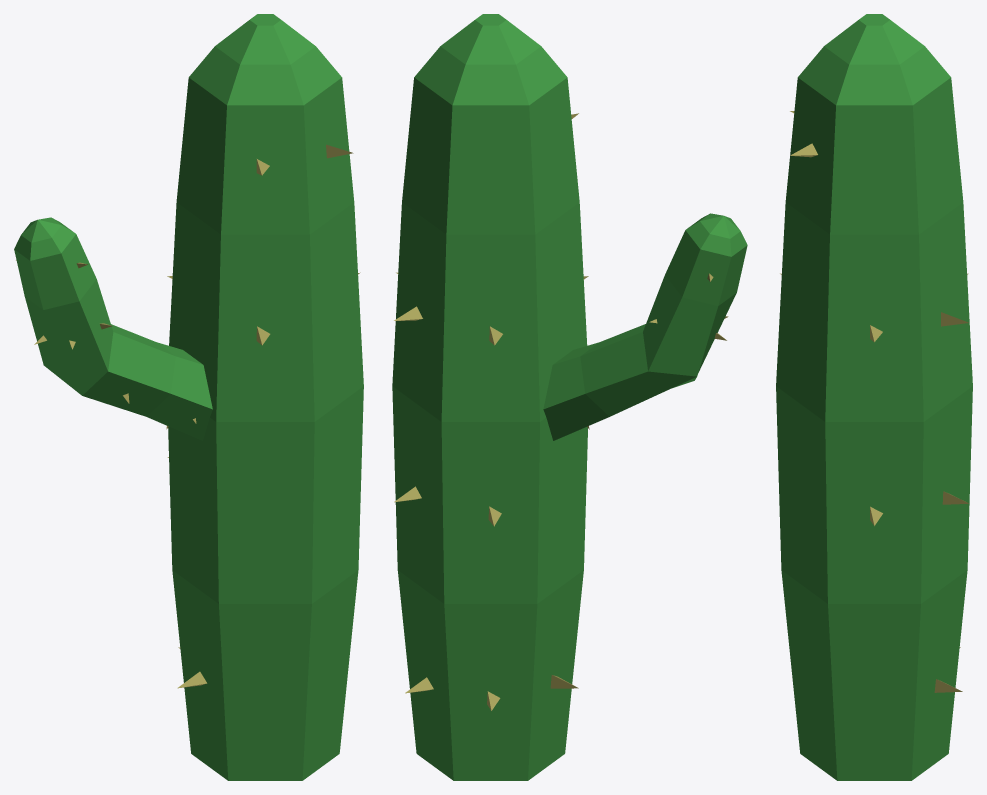
Rendered from Cactus_5_Light_Green.fbx.
The picture shows the model from 3 angles, left to right: view 1: azimuth 30°, elevation 25°; view 2: azimuth 150°, elevation 25°; view 3: azimuth 270°, elevation 25°; orthographic projection.
Visible parts, largest first — view 1: Cactus_5_Light_Green_Mat_1, Cactus_5_Light_Green_Mat_2; view 2: Cactus_5_Light_Green_Mat_1, Cactus_5_Light_Green_Mat_2; view 3: Cactus_5_Light_Green_Mat_1, Cactus_5_Light_Green_Mat_2.
Boxes of the visible parts, bbox=[...] form: Cactus_5_Light_Green_Mat_1: bbox=[14, 14, 363, 780]; Cactus_5_Light_Green_Mat_2: bbox=[16, 144, 360, 688]; Cactus_5_Light_Green_Mat_1: bbox=[392, 14, 747, 780]; Cactus_5_Light_Green_Mat_2: bbox=[394, 113, 728, 710]; Cactus_5_Light_Green_Mat_1: bbox=[776, 14, 972, 780]; Cactus_5_Light_Green_Mat_2: bbox=[780, 111, 968, 692].
Size of the model in its own units: 146 by 299 by 72.81.
